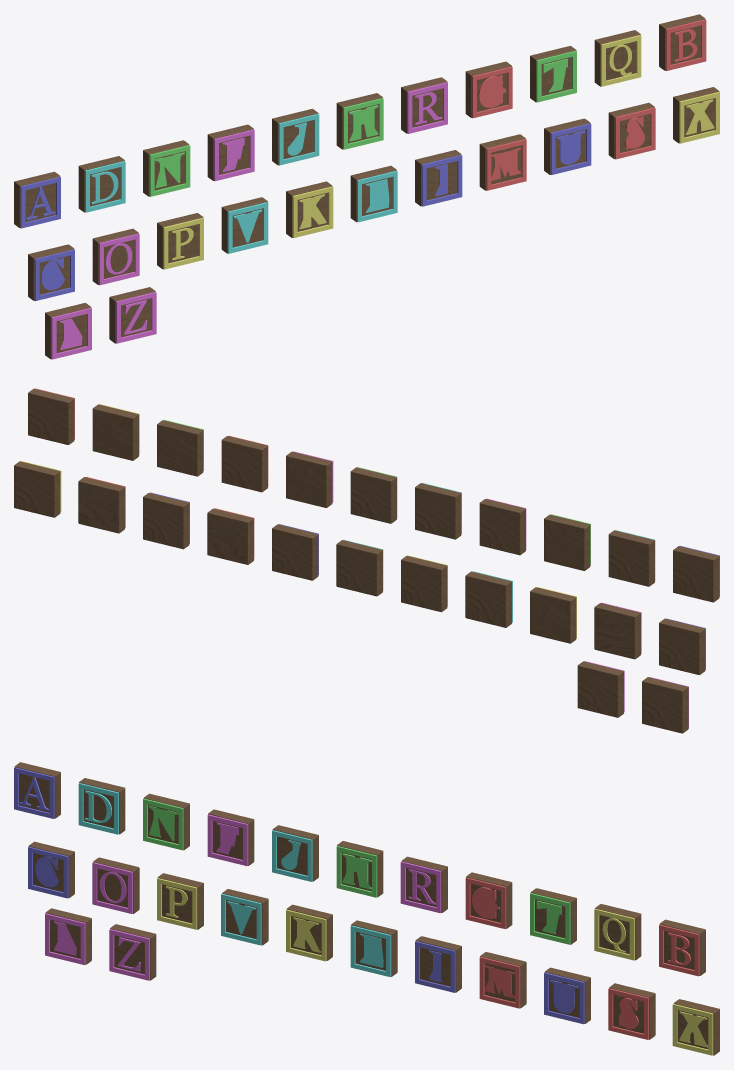
File: block letters.fbx
3 views of the same model, one above another, from view 1: azimuth 30°, elevation 25°; view 2: azimuth 150°, elevation 25°; view 3: azimuth 330°, elevation 25° (orthographic).
Parts seen in each view (by area): view 1: J, H, D, E, I, B, K, F, G, Z, M, S (+12 smaller); view 2: Q, Z, V, S, R, X, M, O, H, F, D, G (+12 smaller); view 3: H, F, D, G, E, S, Z, X, M, V, Q, O (+12 smaller).
Boxes of the visible parts, <box> form: J: <box>272,108,319,165</box>; H: <box>336,93,383,149</box>; D: <box>78,156,125,212</box>; E: <box>350,165,397,222</box>; I: <box>415,150,462,206</box>; B: <box>659,14,706,70</box>; K: <box>286,181,333,237</box>; F: <box>207,124,254,181</box>; G: <box>465,61,512,118</box>; Z: <box>109,287,156,343</box>; M: <box>479,134,526,190</box>; S: <box>608,102,655,159</box>; Q: <box>92,404,139,460</box>; Z: <box>577,661,624,717</box>; V: <box>465,571,512,627</box>; S: <box>78,477,125,533</box>; R: <box>286,451,333,507</box>; X: <box>14,461,61,517</box>; M: <box>207,508,254,564</box>; O: <box>594,602,641,659</box>; H: <box>350,467,397,523</box>; F: <box>479,498,526,555</box>; D: <box>608,530,655,586</box>; G: <box>221,435,268,492</box>; H: <box>336,841,383,897</box>; F: <box>207,809,254,865</box>; D: <box>78,778,125,834</box>; G: <box>465,872,512,928</box>; E: <box>350,920,397,976</box>; S: <box>608,983,655,1039</box>; Z: <box>109,924,156,980</box>; X: <box>672,999,719,1055</box>; M: <box>479,952,526,1008</box>; V: <box>221,889,268,945</box>; Q: <box>594,904,641,960</box>; O: <box>92,857,139,913</box>.
Size of the model in its own units: 30.84 by 7.65 by 0.5372.
